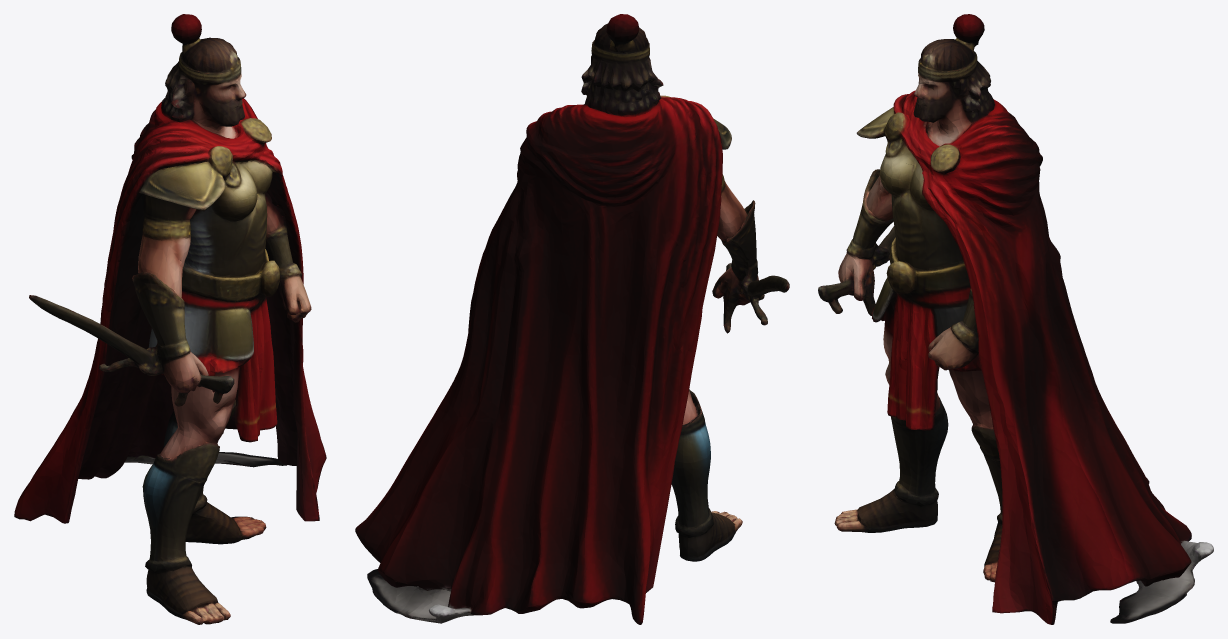
The model's file is model.trellis.glb.
3 renders of one model, left to right at view 1: azimuth 30°, elevation 25°; view 2: azimuth 150°, elevation 25°; view 3: azimuth 270°, elevation 25°, orthographic. The views are drawn at different scales.
Parts seen in each view (by area): view 1: world; view 2: world; view 3: world.
Part boxes in pixels (box(x1,y1,x2,y2)): world: box(14, 14, 326, 624); world: box(355, 14, 789, 624); world: box(818, 14, 1213, 624).
Bounding box in the file's own units: 0.6573 × 1 × 0.6788.
1 material, 1 textured.
